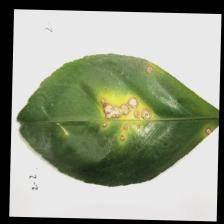canker: (78, 58, 215, 155)
